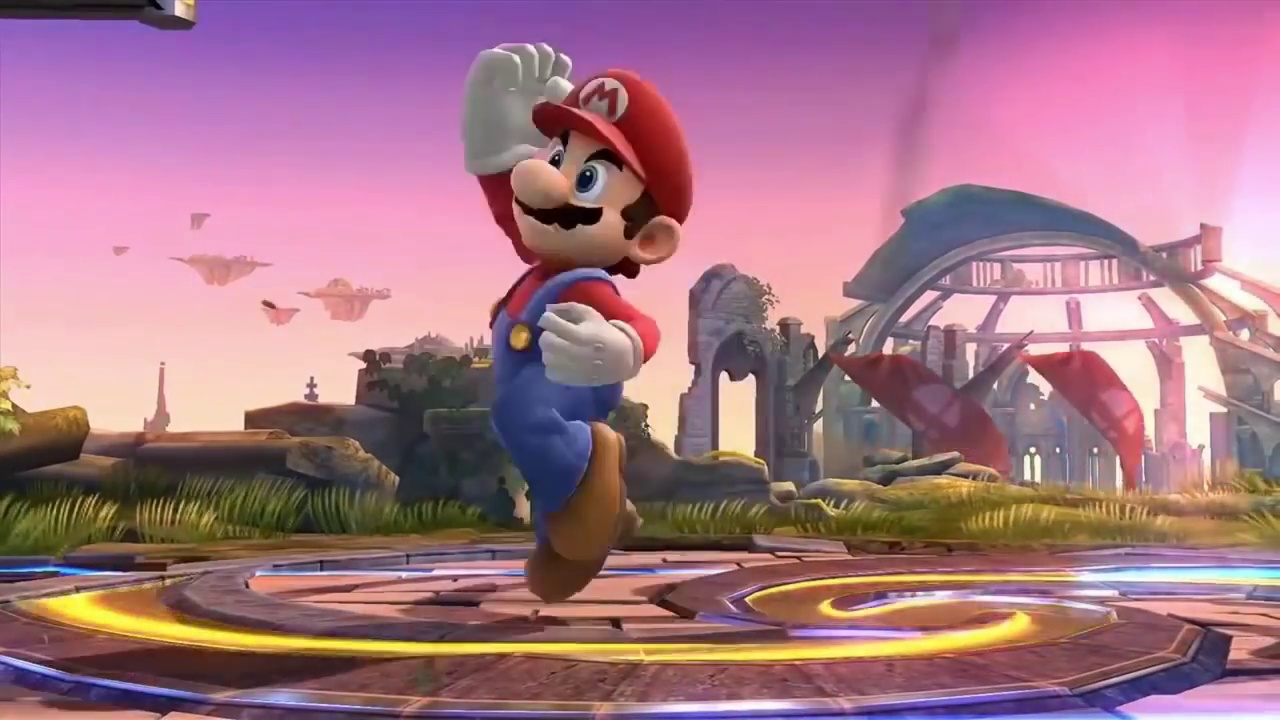Mario: (461, 41, 696, 606)
